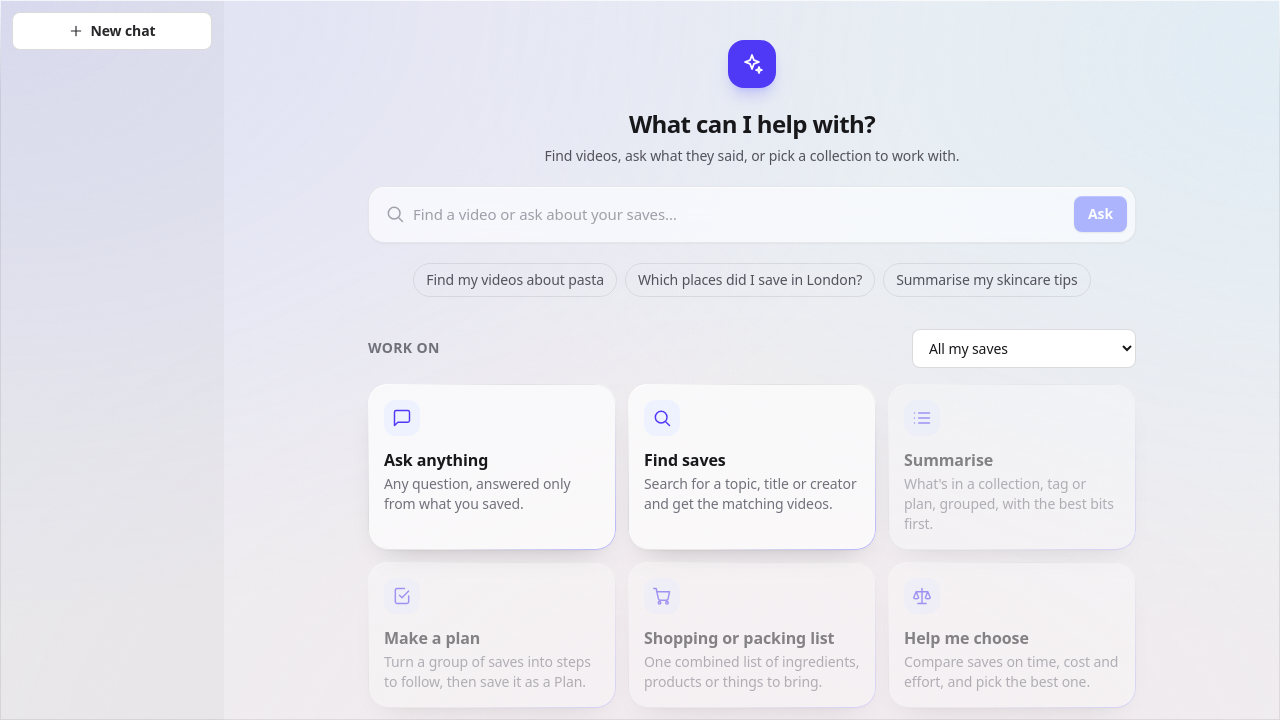
Test case: start a chat, ask, and open a save the answer used
Expected: the heading "What can I help with?" is shown, top-left (629, 107), bottom-right (875, 140)
Expected: the button "Find saves" is enabled, top-left (628, 384), bottom-right (876, 550)
Step 1. Click the button "Ask anything" → x=492, y=466, box top-left (368, 384), bottom-right (616, 550)
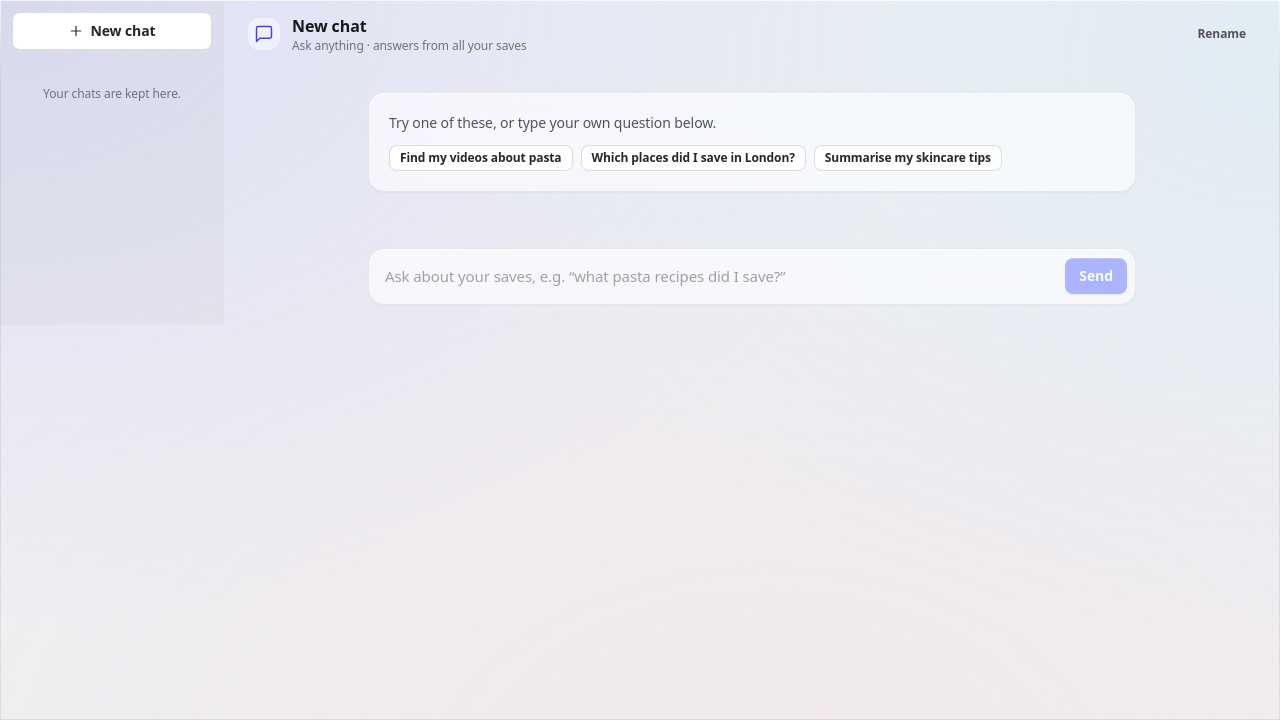
Step 2. Type "what pasta did I save?" into the field named "Your message" → x=721, y=276, box top-left (385, 257), bottom-right (1057, 296)
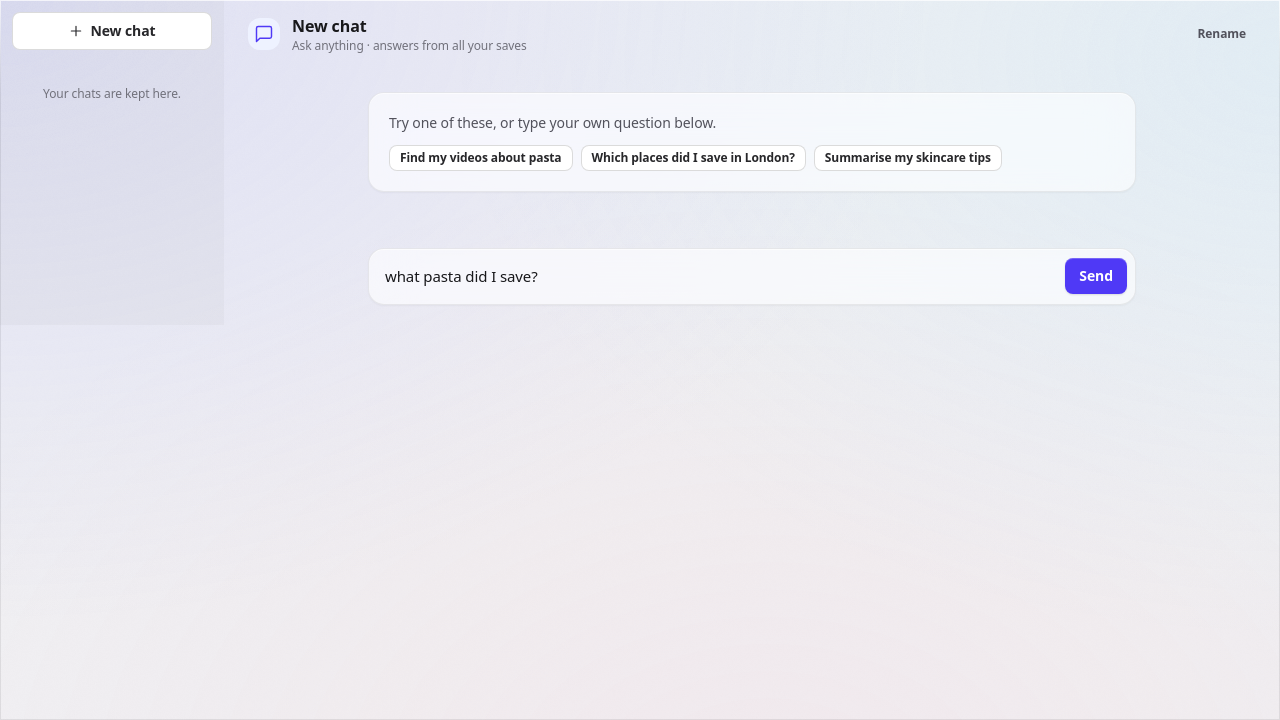
Step 3. Click the button "Send" → x=1096, y=276, box top-left (1065, 258), bottom-right (1127, 294)
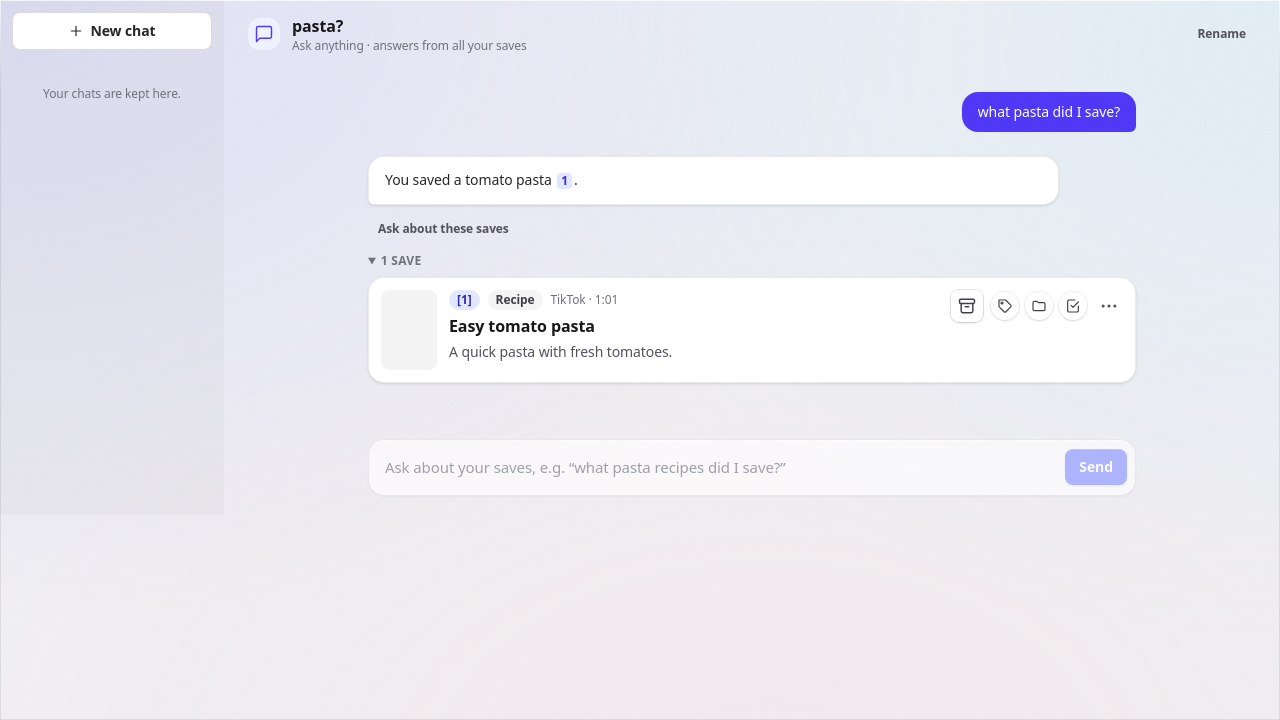
Result: the element with test id "answer" reads "You saved a tomato pasta 1 ." at top-left (368, 156), bottom-right (1059, 205)
Step 4. Click the button named "Open save 1" → x=565, y=181, box top-left (557, 173), bottom-right (572, 189)
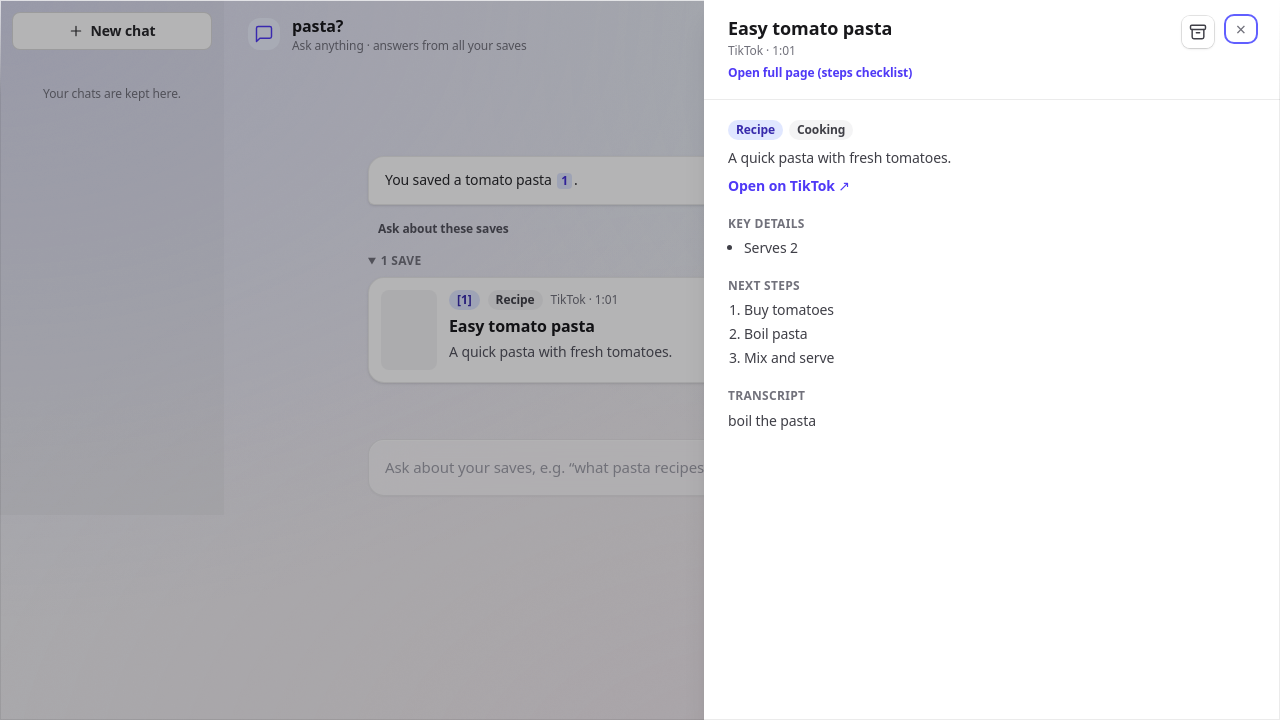
Result: the element with test id "transcript" reads "boil the pasta" at top-left (728, 411), bottom-right (816, 430)
